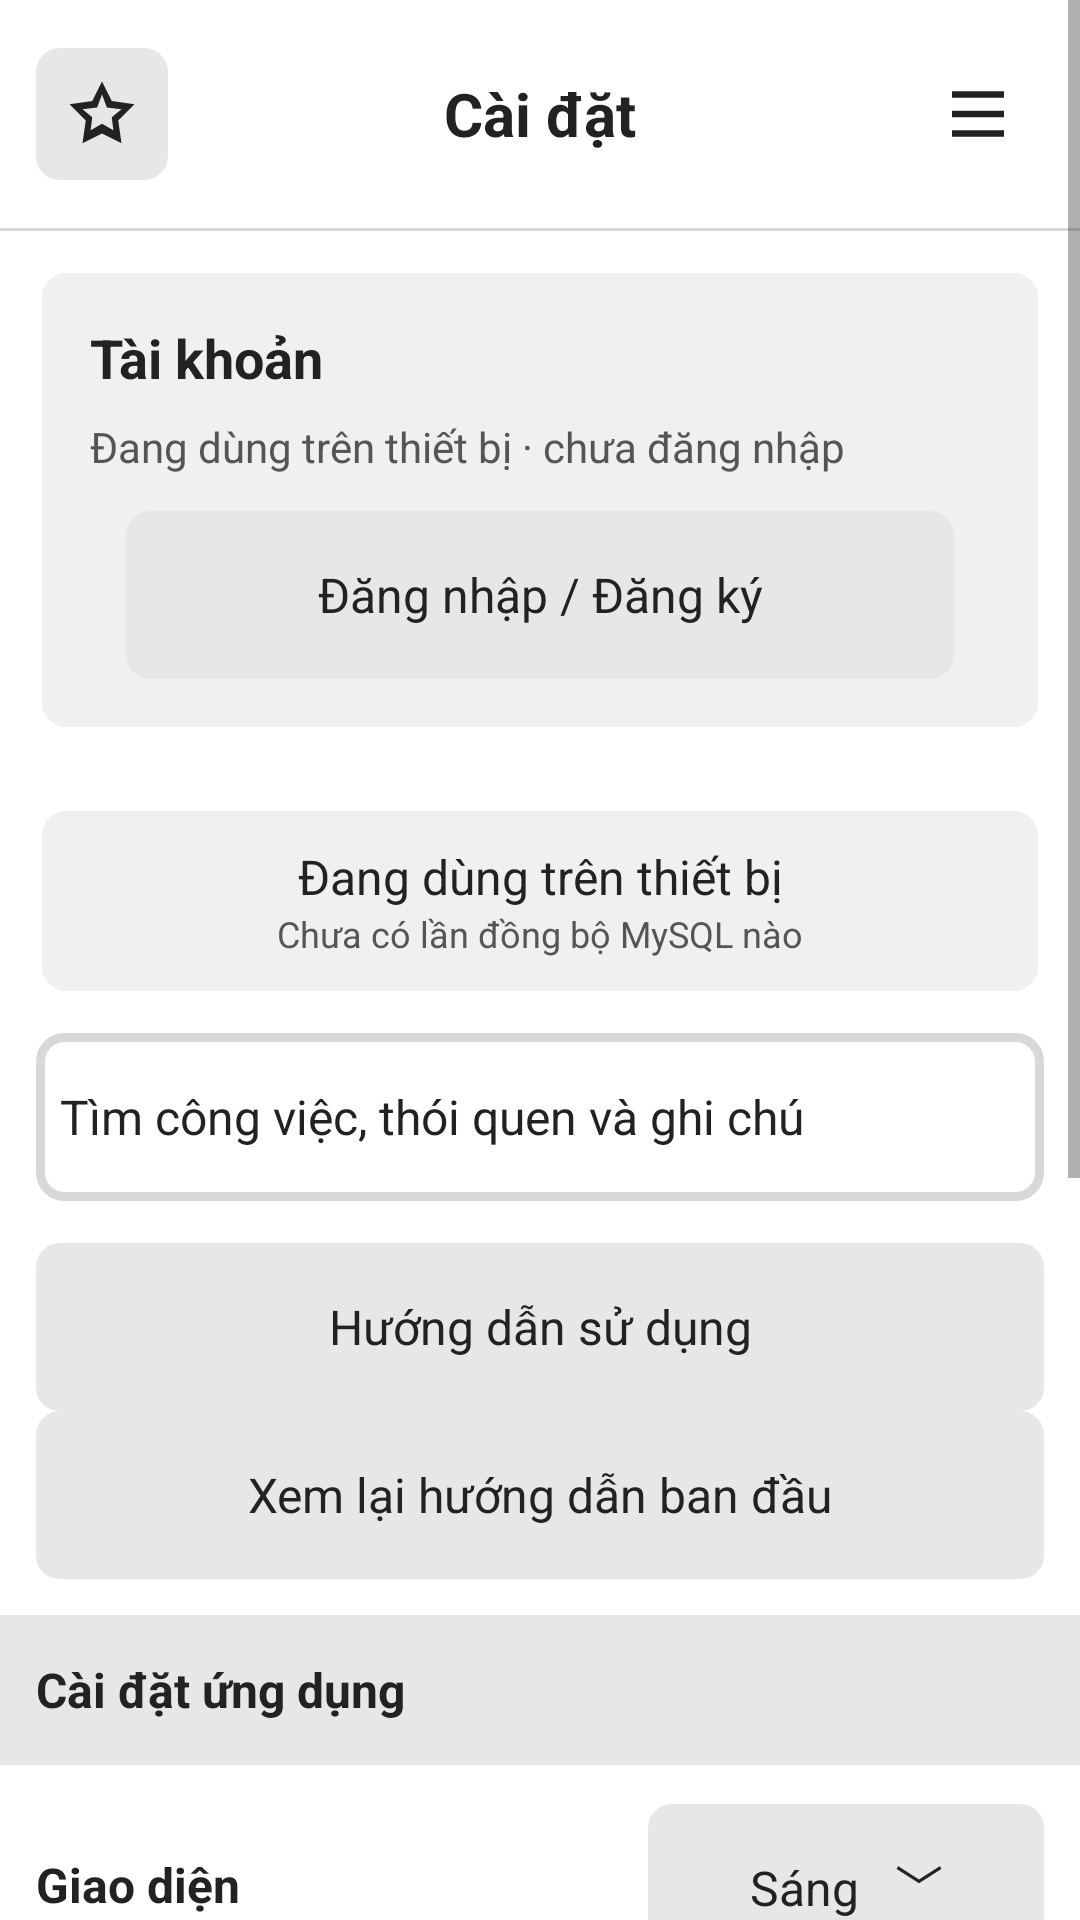

Where icons sit on this 1080px x 1920px app screen, as rect(x1, y1, x2, y2):
Quản lý danh sách / bộ lọc: rect(952, 91, 1004, 137)
